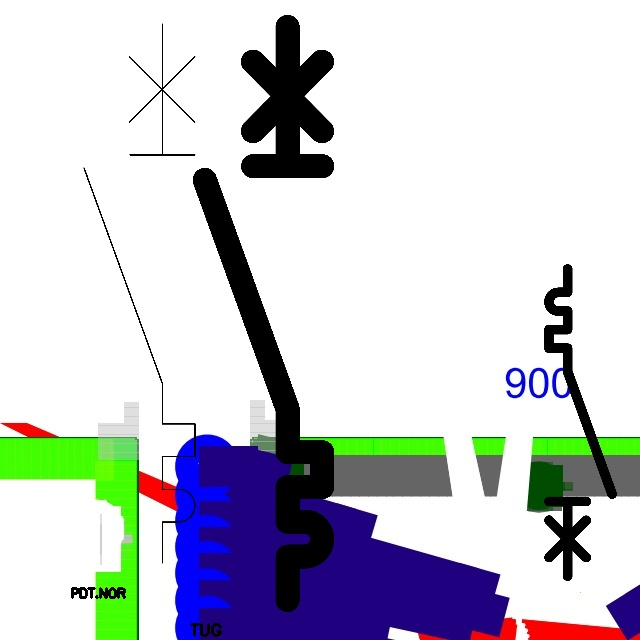interruptor_termomagnetico: (190, 12, 337, 615), (70, 10, 209, 577), (541, 261, 620, 584)
